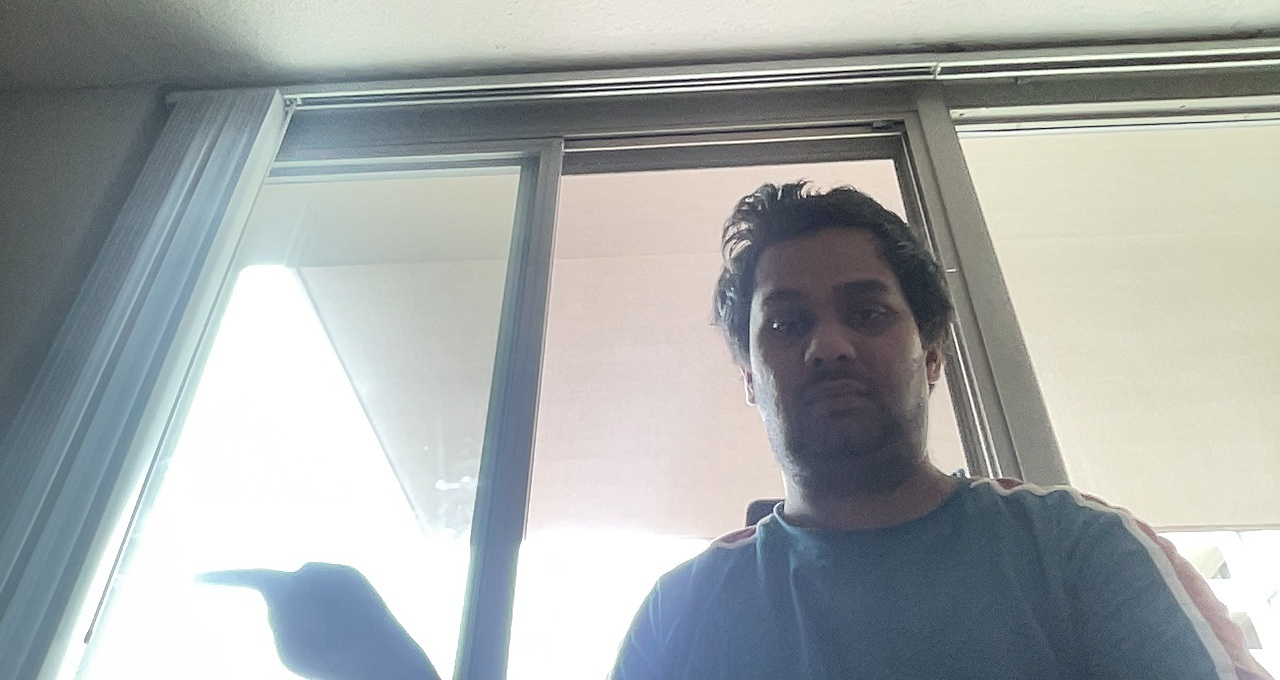fingerright: (184, 548, 386, 674)
